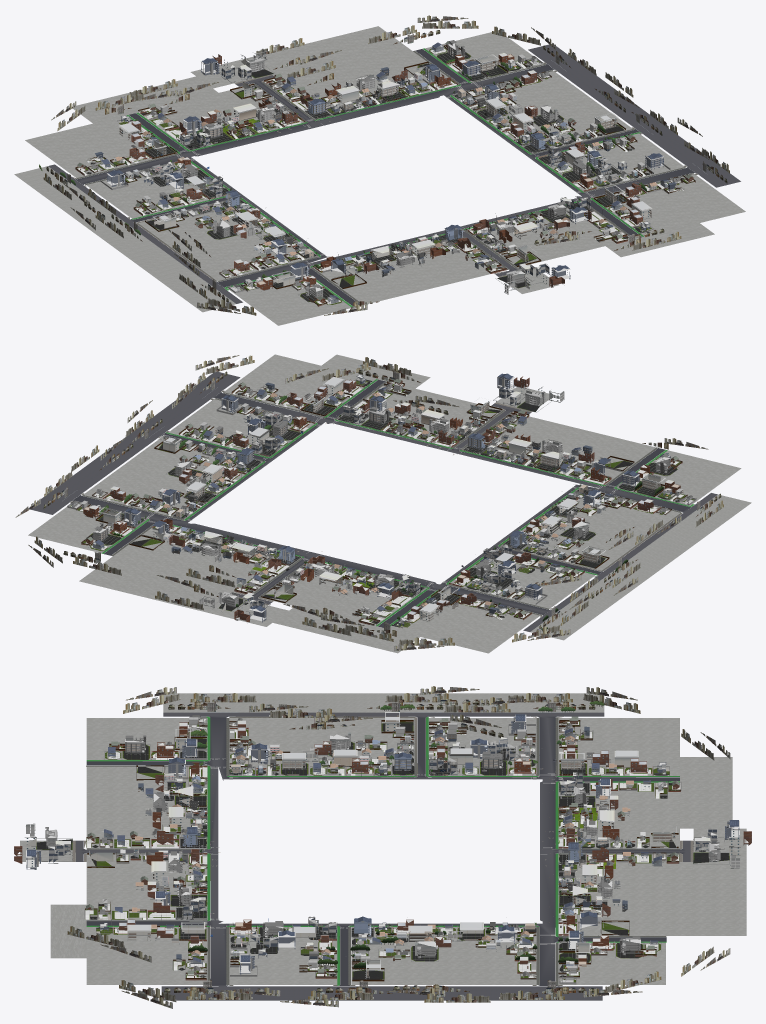
File: raimonT.glb
3 renders of one model, top to bottom at view 1: azimuth 30°, elevation 25°; view 2: azimuth 150°, elevation 25°; view 3: azimuth 270°, elevation 25°, orthographic. The views are drawn at different scales.
Parts seen in each view (by area): view 1: w40g000__2__329__0_r4, w40g000__12__339__0_r4, w40h102__0__590__0, w40h102__0__287__0, w40h101__0__574__0, w40h101__0__271__0, w40g000__17__344__0_r4, w40g000__15__342__0_r4, w40g000__13__340__0_r4, w40g000__4__331__0_r4; view 2: w40g000__2__329__0_r4, w40g000__12__339__0_r4, w40h102__0__590__0, w40h102__0__287__0, w40h101__0__271__0, w40g000__17__344__0_r4, w40h101__0__574__0, w40g000__15__342__0_r4, w40g000__13__340__0_r4, w40g000__4__331__0_r4; view 3: w40g000__2__329__0_r4, w40g000__12__339__0_r4, w40h102__0__287__0, w40h102__0__590__0, w40g000__17__344__0_r4, w40h101__0__271__0, w40h101__0__574__0, w40g000__15__342__0_r4, w40g000__13__340__0_r4, w40g000__20__347__0_r4, w40g000__4__331__0_r4.
Boxes of the visible parts, bbox=[...] form: w40g000__2__329__0_r4: bbox=[14, 26, 745, 325]; w40g000__12__339__0_r4: bbox=[48, 43, 740, 305]; w40h102__0__590__0: bbox=[427, 40, 695, 233]; w40h102__0__287__0: bbox=[75, 115, 344, 306]; w40h101__0__574__0: bbox=[138, 48, 457, 149]; w40h101__0__271__0: bbox=[313, 197, 628, 294]; w40g000__17__344__0_r4: bbox=[43, 15, 729, 315]; w40g000__15__342__0_r4: bbox=[73, 50, 697, 303]; w40g000__13__340__0_r4: bbox=[126, 48, 643, 306]; w40g000__4__331__0_r4: bbox=[66, 49, 704, 293]; w40g000__2__329__0_r4: bbox=[28, 354, 751, 653]; w40g000__12__339__0_r4: bbox=[28, 371, 717, 631]; w40h102__0__590__0: bbox=[67, 374, 372, 551]; w40h102__0__287__0: bbox=[391, 453, 696, 628]; w40h101__0__271__0: bbox=[337, 373, 634, 484]; w40g000__17__344__0_r4: bbox=[15, 355, 723, 651]; w40h101__0__574__0: bbox=[129, 518, 426, 625]; w40g000__15__342__0_r4: bbox=[70, 381, 682, 617]; w40g000__13__340__0_r4: bbox=[101, 379, 694, 626]; w40g000__4__331__0_r4: bbox=[64, 382, 701, 625]; w40g000__2__329__0_r4: bbox=[20, 693, 746, 984]; w40g000__12__339__0_r4: bbox=[75, 712, 690, 1000]; w40h102__0__287__0: bbox=[104, 712, 669, 775]; w40h102__0__590__0: bbox=[96, 916, 661, 984]; w40g000__17__344__0_r4: bbox=[67, 686, 730, 1008]; w40h101__0__271__0: bbox=[14, 757, 207, 919]; w40h101__0__574__0: bbox=[558, 772, 751, 935]; w40g000__15__342__0_r4: bbox=[72, 716, 693, 985]; w40g000__13__340__0_r4: bbox=[86, 716, 679, 985]; w40g000__20__347__0_r4: bbox=[187, 701, 604, 969]; w40g000__4__331__0_r4: bbox=[75, 712, 682, 986].
Bounding box in the file's own units: 760 × 18.92 × 748.
48 materials, 47 textured.
